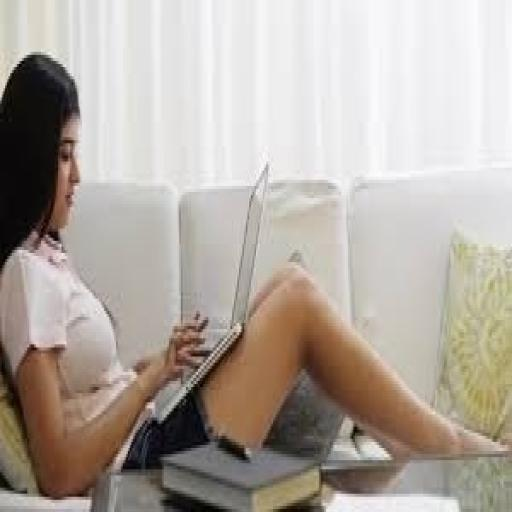using_laptop: (148, 156, 272, 424)
